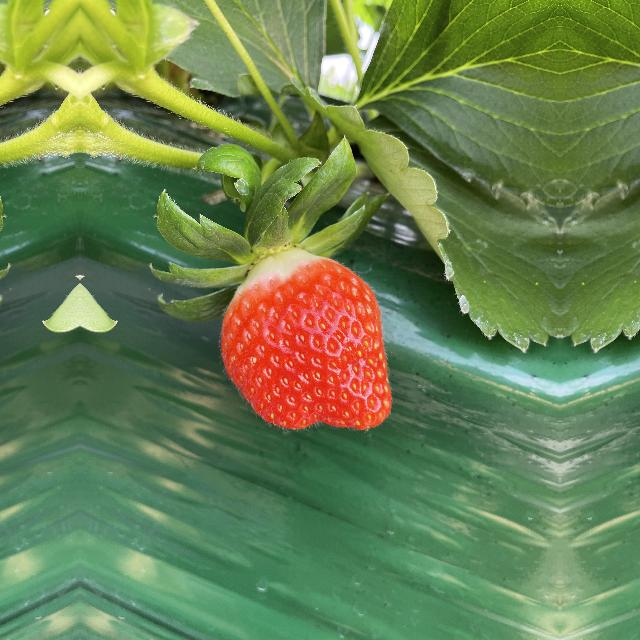Health_100: (209, 250, 401, 440)
